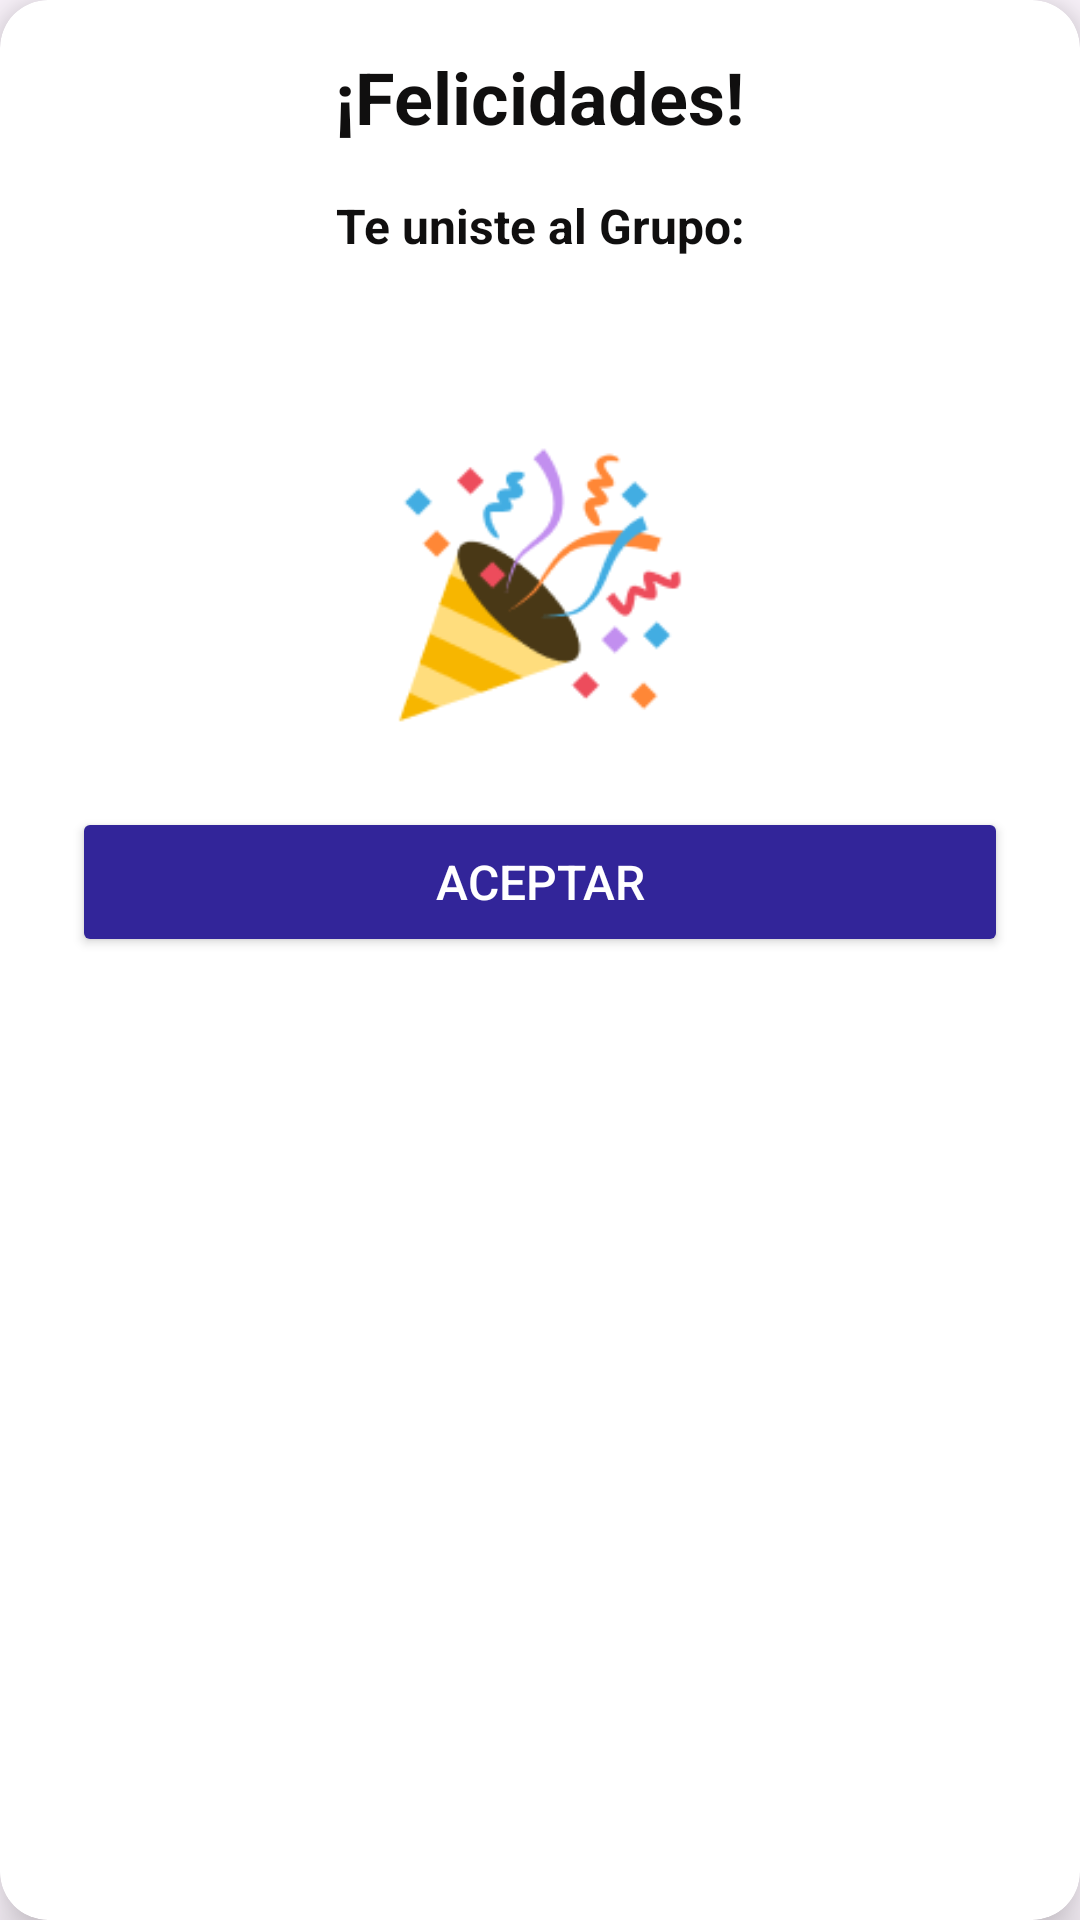

Where icons sit on this 1080×1920 app screen, as {"x1": x1, "y1": y1, "x2": x2, "y2": y2}:
felicidades: {"x1": 399, "y1": 449, "x2": 681, "y2": 722}
